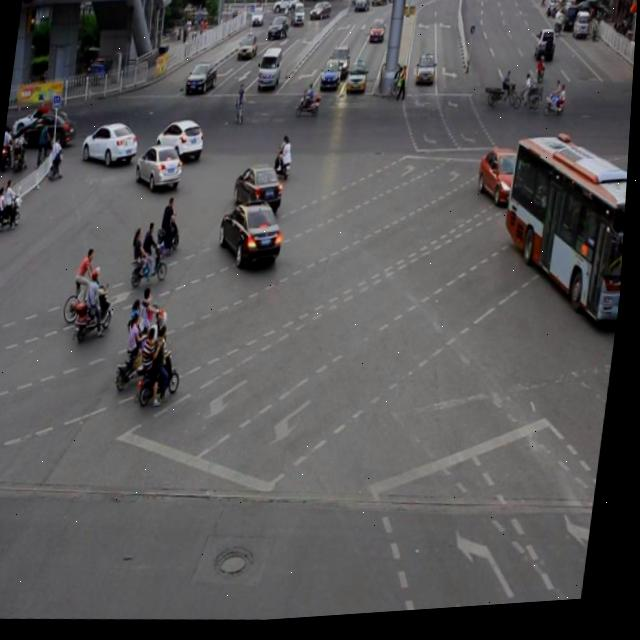car: (217, 199, 289, 275), (475, 150, 530, 216), (233, 163, 288, 221), (81, 118, 142, 170), (135, 143, 187, 194), (155, 117, 208, 165)
van: (495, 139, 632, 335)
